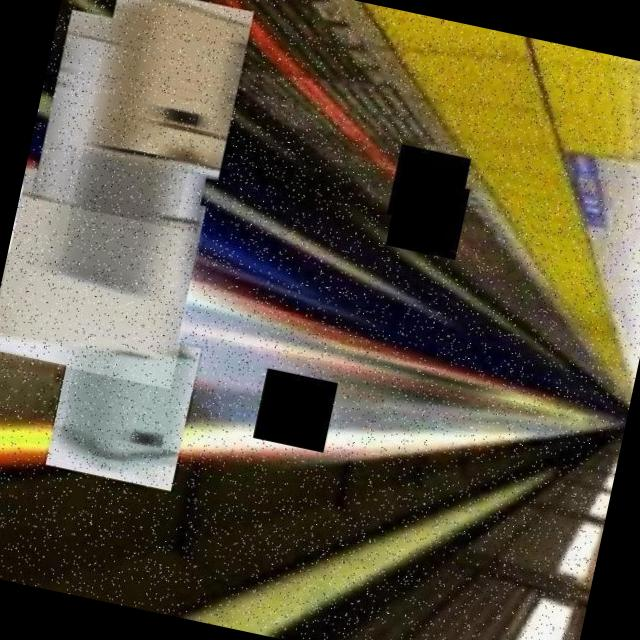box: (29, 5, 238, 233), (0, 164, 209, 389), (81, 0, 258, 183), (43, 318, 204, 492)
